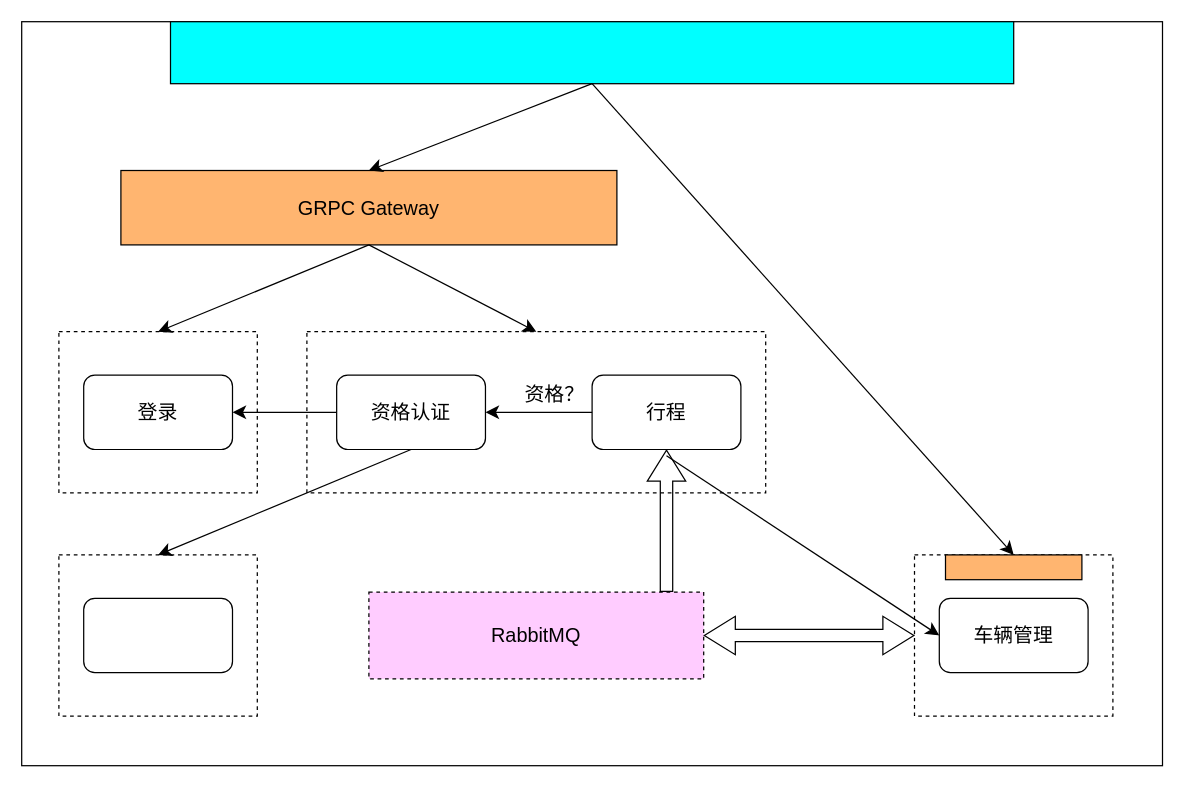
Image size: 1184x787. Some labels were removed from this diagram. Each missing label, with the centre of its shape:
"Ingress(HTTP/HTTPS)" goes at [591,52].
"WebSocket" goes at [1013,567].
"照片管理" goes at [157,635].
